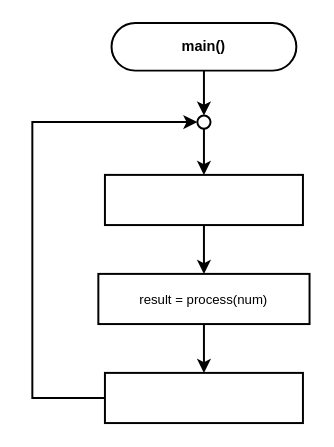
Some shapes in this 334 by 447 pixel diagram are drawn without their labels. Each missing label, with the centre of its shape:
"num = readKey()" goes at point (203, 199).
"output(result)" goes at point (203, 397).
